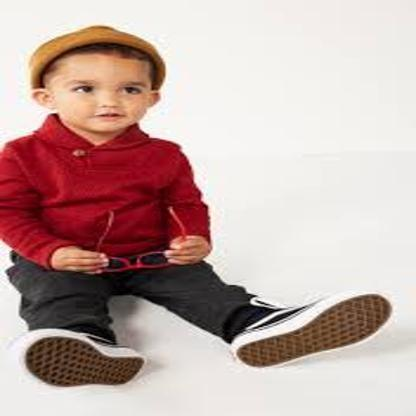not trash: (230, 291, 386, 370), (27, 24, 166, 80), (24, 329, 141, 385)
